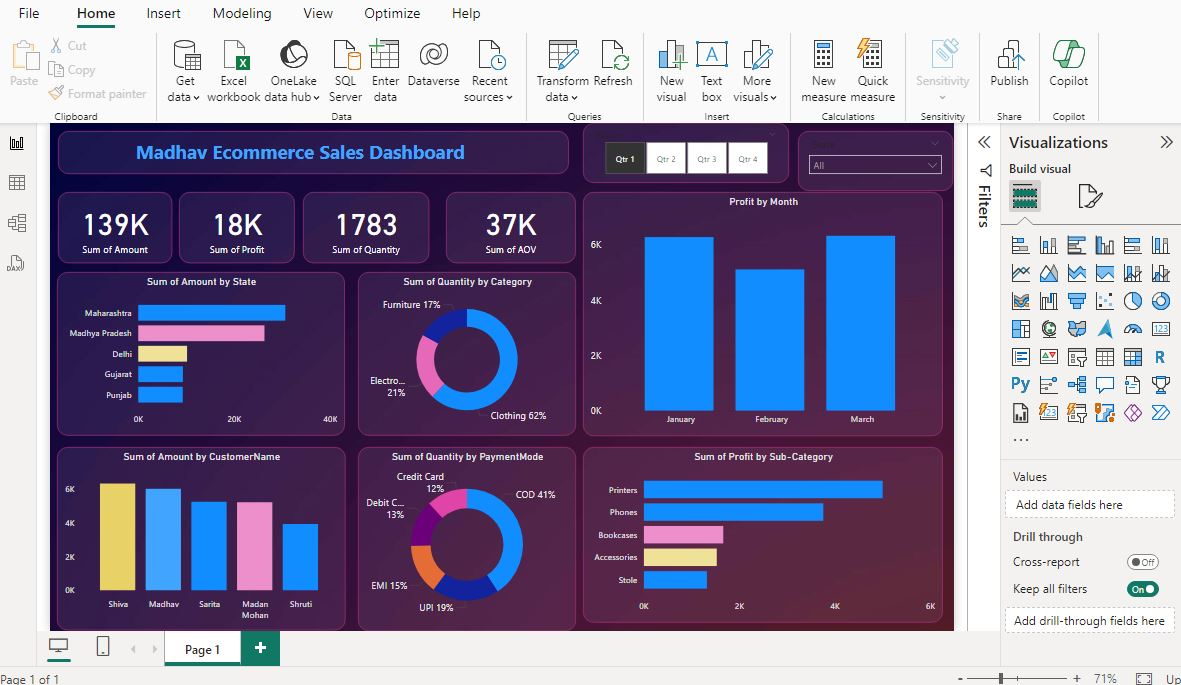

This screenshot's page, from the dashboard's own definition file:
{"tool":"powerbi","page":{"name":"Page 1","canvas":[1280,720],"ordinal":0},"visuals":[{"type":"textbox","box":[11.3,11.3,724.3,60.9],"z":0},{"type":"columnChart","title":"Profit by Month","fields":{"Y":["Details.Profit"],"Category":["Orders (1).Order Date.Variation.Date Hierarchy.Month"]},"box":[755.4,97.8,510.2,345.8],"z":1000},{"type":"barChart","fields":{"Category":["Details.Sub-Category"],"Y":["Details.Profit"]},"box":[755.4,459.2,510.2,249.4],"z":2000},{"type":"donutChart","fields":{"Category":["Details.Category"],"Y":["Details.Quantity"]},"box":[436.5,211.2,309,232.4],"z":3000},{"type":"donutChart","fields":{"Y":["Details.Quantity"],"Category":["Details.PaymentMode"]},"box":[436.5,459.2,309,260.8],"z":4000},{"type":"card","fields":{"Values":["Details.Amount"]},"box":[11.3,97.8,161.6,100.6],"z":5000},{"type":"card","fields":{"Values":["Details.Quantity"]},"box":[358.6,97.8,178.6,100.6],"z":6000},{"type":"card","fields":{"Values":["Details.Profit"]},"box":[182.8,97.8,164.4,100.6],"z":7000},{"type":"card","fields":{"Values":["Details.AOV"]},"box":[561.3,97.8,184.3,100.6],"z":8000},{"type":"barChart","fields":{"Y":["Details.Amount"],"Category":["Orders (1).State"]},"box":[9.9,211.2,408.2,232.4],"z":9000},{"type":"columnChart","fields":{"Category":["Orders (1).CustomerName"],"Y":["Details.Amount"]},"box":[10.1,459.3,408.7,260.1],"z":10000},{"type":"slicer","fields":{"Values":["Orders (1).Order Date.Variation.Date Hierarchy.Quarter"]},"box":[755.4,0,292,85],"z":11000},{"type":"slicer","fields":{"Values":["Orders (1).State"]},"box":[1060.2,11.3,219.7,85],"z":12000}]}

Visuals, with their boxes on the page's 1280x720 design canvas (x1, y1, x2, y2). These are canvas units, not pixel positions in the 1181x685 screenshot, which may show the page scaled, cropped or inside an application window:
textbox: detection(11, 11, 736, 72)
"Profit by Month" columnChart: detection(755, 98, 1266, 444)
barChart - Details.Sub-Category x Details.Profit: detection(755, 459, 1266, 709)
donutChart - Details.Category x Details.Quantity: detection(436, 211, 746, 444)
donutChart - Details.Quantity x Details.PaymentMode: detection(436, 459, 746, 720)
card - Details.Amount: detection(11, 98, 173, 198)
card - Details.Quantity: detection(359, 98, 537, 198)
card - Details.Profit: detection(183, 98, 347, 198)
card - Details.AOV: detection(561, 98, 746, 198)
barChart - Details.Amount x Orders (1).State: detection(10, 211, 418, 444)
columnChart - Orders (1).CustomerName x Details.Amount: detection(10, 459, 419, 719)
slicer - Orders (1).Order Date.Variation.Date Hierarchy.Quarter: detection(755, 0, 1047, 85)
slicer - Orders (1).State: detection(1060, 11, 1280, 96)
